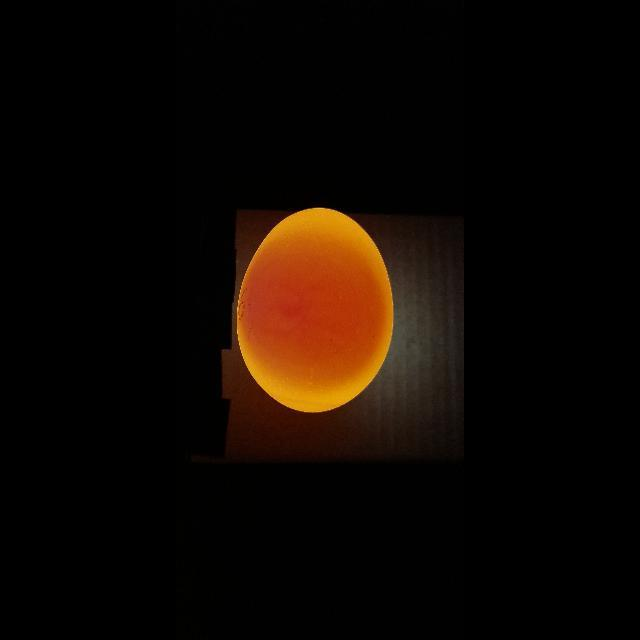Fertile: (237, 204, 395, 424)
